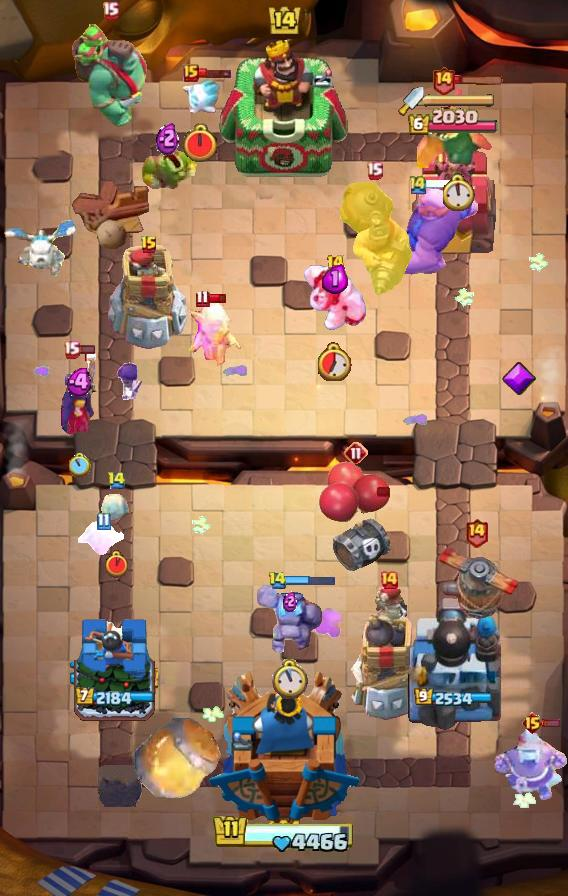axe: (57, 348, 103, 436)
baby-dragon: (98, 765, 142, 807)
balloon: (387, 185, 481, 277)
bar: (409, 138, 497, 256)
bat: (179, 77, 221, 119), (94, 494, 138, 528)
clock: (212, 813, 356, 855)
dark-prince: (427, 543, 525, 625)
dirt: (131, 716, 221, 804)
electro-spirit: (66, 368, 94, 396), (157, 121, 180, 155), (322, 264, 348, 294), (283, 590, 297, 612)
electro-wizard: (417, 82, 501, 168)
elixir: (181, 123, 219, 164), (272, 660, 308, 701), (318, 343, 352, 382), (443, 173, 477, 211), (104, 550, 127, 578), (69, 453, 91, 477)
elixir-collector: (492, 727, 568, 803)
emote: (284, 573, 336, 586), (453, 75, 505, 86), (197, 67, 233, 79), (425, 179, 459, 189), (76, 344, 95, 356), (209, 292, 228, 303), (542, 718, 562, 728)
flying-machine: (137, 147, 197, 201)
goblin: (113, 362, 145, 402)
king-tower: (207, 669, 361, 826), (218, 37, 350, 181)
king-tower-bar: (424, 93, 496, 107)
lava-hound: (68, 24, 152, 130)
mini-pekka: (0, 218, 80, 280)
mirror: (78, 519, 128, 557)
poison: (172, 301, 256, 373)
queen-tower: (70, 616, 158, 731)
rage: (302, 264, 368, 332)
royal-recruit-evolution: (318, 460, 394, 572)
selected: (407, 108, 499, 137), (74, 687, 154, 709), (414, 688, 494, 708)
skeleton-king-skill: (501, 361, 537, 397)
text: (431, 65, 456, 96), (463, 517, 488, 547), (344, 441, 368, 465), (521, 711, 544, 735), (408, 173, 428, 195), (379, 570, 399, 590), (326, 254, 345, 274), (106, 470, 125, 489), (269, 570, 288, 589), (140, 235, 158, 255), (101, 1, 119, 20), (366, 161, 383, 179), (64, 341, 81, 359), (183, 64, 199, 82), (97, 512, 112, 531), (195, 288, 209, 307)
tower-bar: (405, 595, 501, 731)
valkyrie-evolution: (257, 582, 323, 654)
wizard: (334, 178, 414, 298)
zappy: (347, 588, 434, 724), (108, 245, 190, 351)
